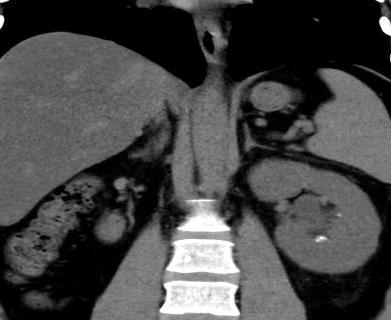Tas_Var: (336, 212, 344, 217), (315, 238, 319, 244), (318, 236, 324, 240), (324, 237, 326, 241)
